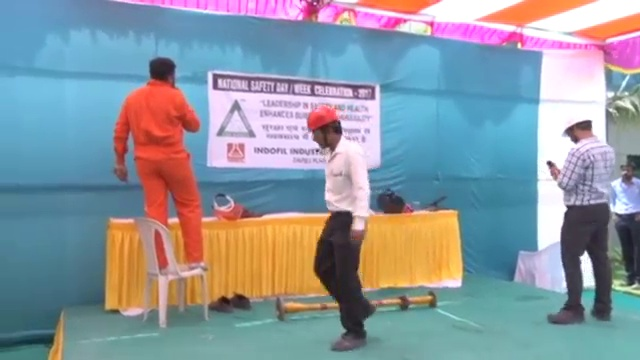helmet: (559, 110, 595, 138), (305, 103, 339, 130)
helmet_off: (149, 56, 178, 86), (621, 161, 632, 182)
helmet_on: (305, 104, 345, 150), (558, 110, 596, 146)
person: (103, 56, 212, 275), (301, 105, 377, 352), (549, 108, 615, 327), (613, 156, 640, 290)
